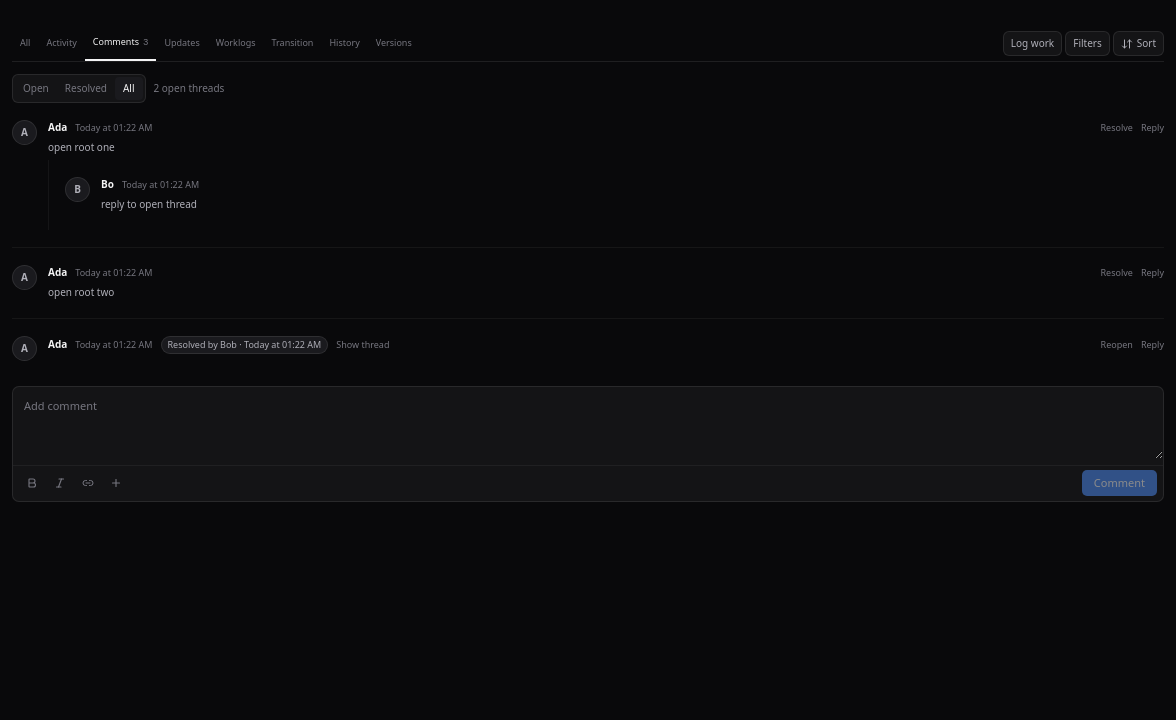
Scenario: ActivitySection comment resolve (C32) › collapses resolved threads by default; expanding reveals the thread
Expected: the text "open root one" is shown, [48,140,115,154]
Expected: the text "reply to open thread" is shown, [101,197,197,211]
Click the button "Show thread" at coordinates (363, 345), box [336,338,390,352]
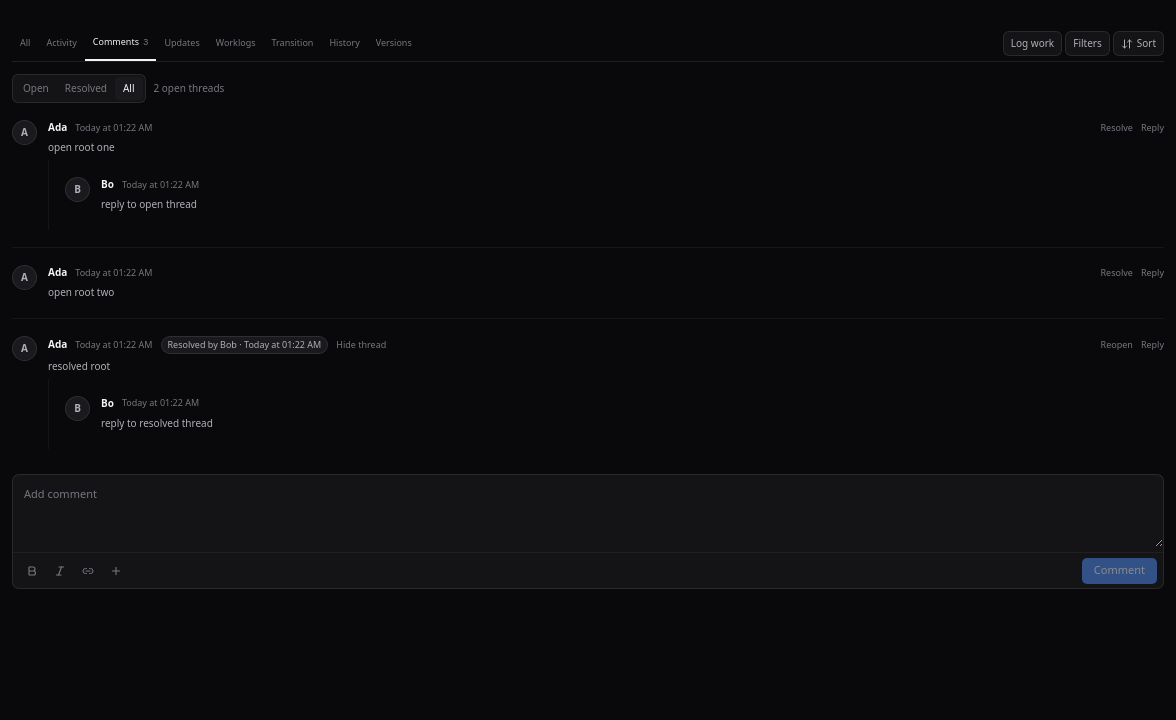
Expected: the text "reply to resolved thread" is shown, [101,416,213,430]
Expected: the text "resolved root" is shown, [48,358,110,372]
Click the button "Hide thread" at coordinates (361, 345), box [336,338,386,352]
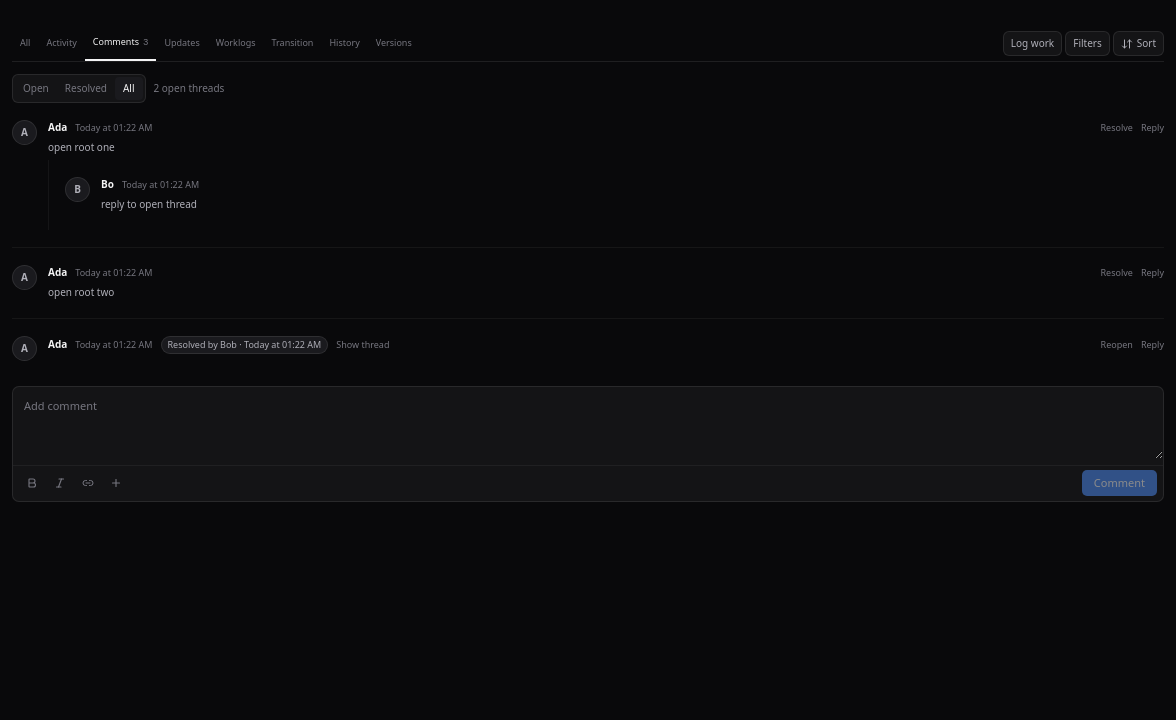
Expected: the text "reply to resolved thread" is gone
